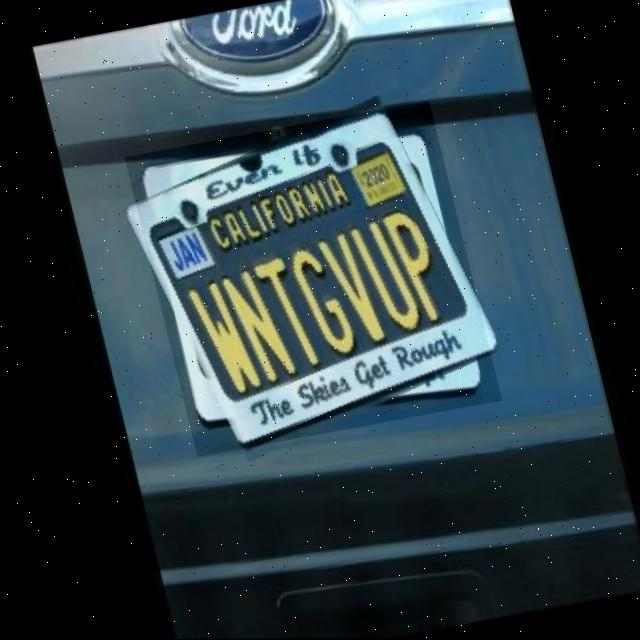LicensePlate: (119, 100, 499, 457)
